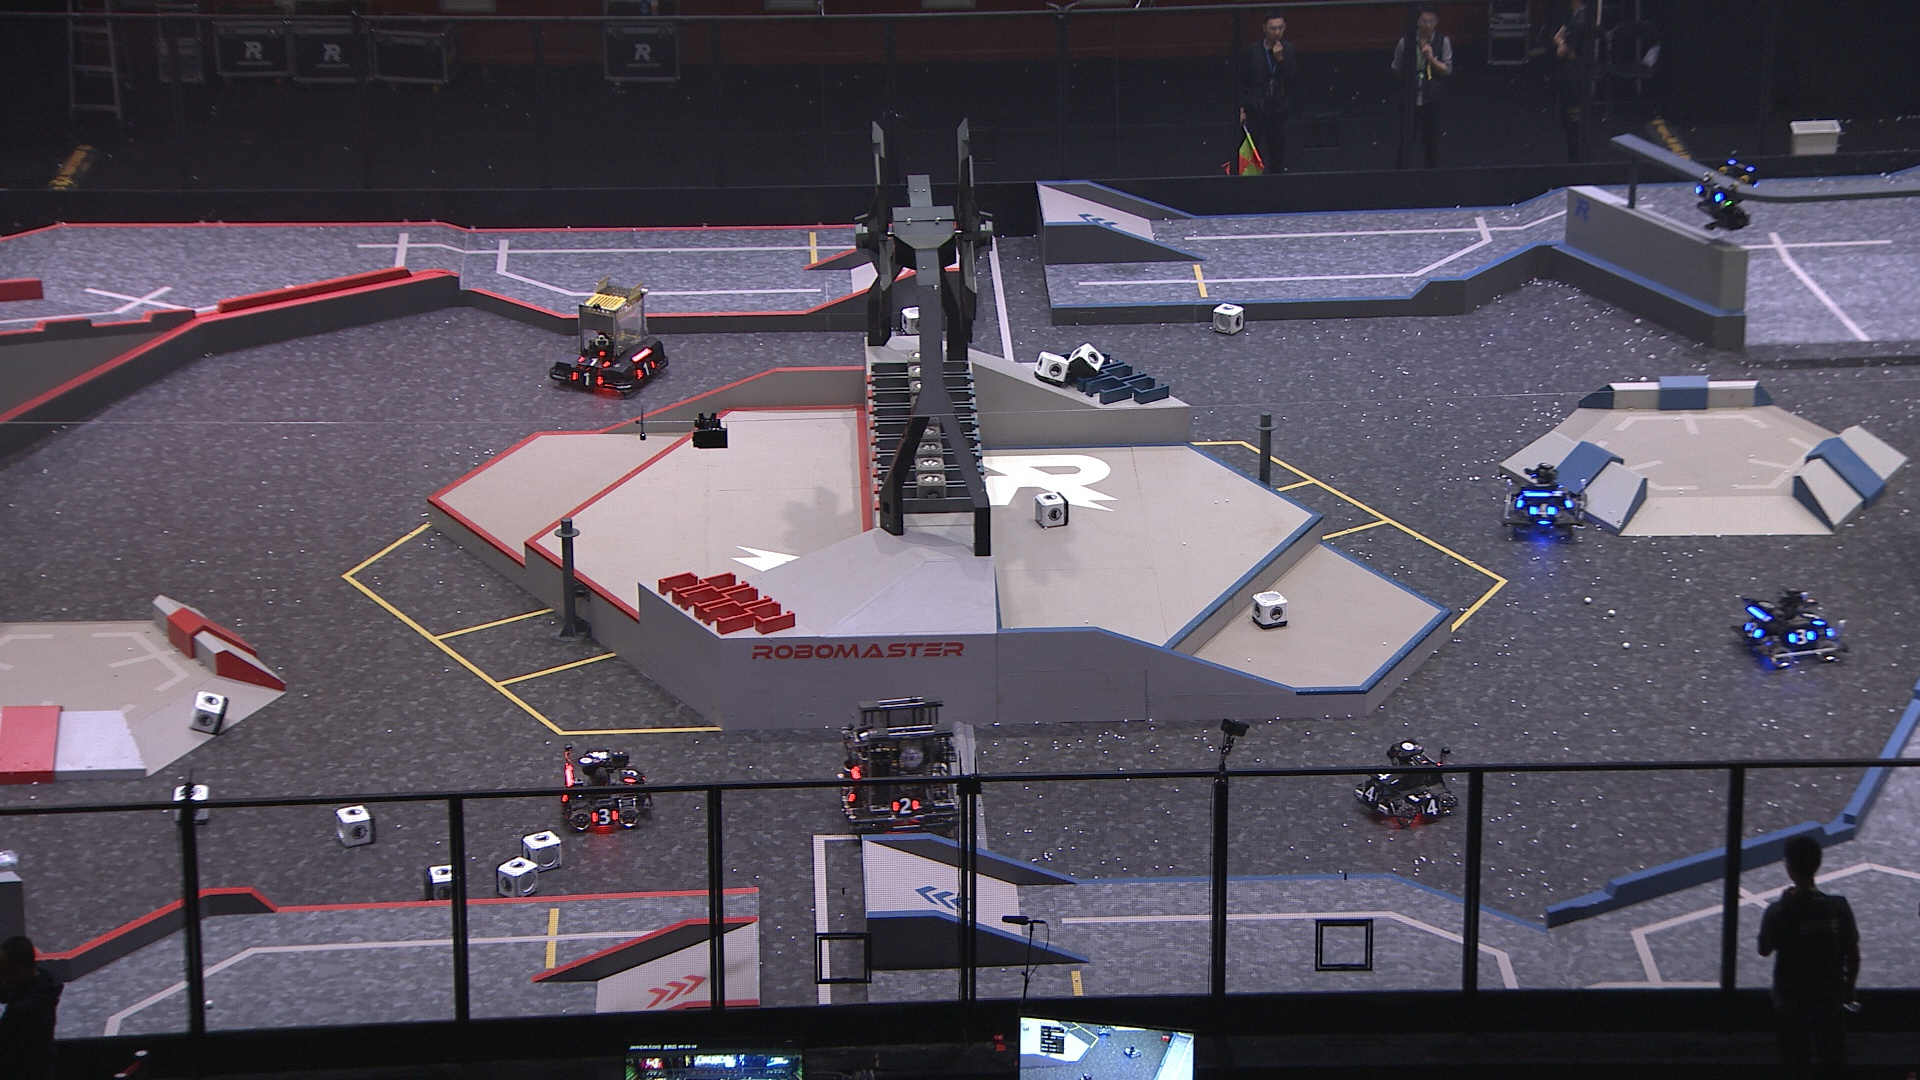armor: (1695, 181, 1727, 206), (576, 352, 615, 371), (1788, 624, 1816, 647), (617, 764, 644, 787), (591, 806, 622, 825), (632, 357, 659, 380), (1377, 765, 1403, 787), (570, 371, 605, 386), (1524, 502, 1556, 520), (891, 796, 918, 816), (1361, 781, 1381, 807), (1419, 796, 1443, 818), (1801, 608, 1826, 626), (1742, 618, 1762, 641), (840, 785, 858, 807), (1509, 489, 1524, 509)
car: (829, 692, 967, 831), (543, 277, 671, 400), (1354, 736, 1465, 828), (1741, 583, 1854, 671), (555, 740, 655, 836), (1505, 458, 1589, 534)
watcher: (1691, 145, 1768, 232)
